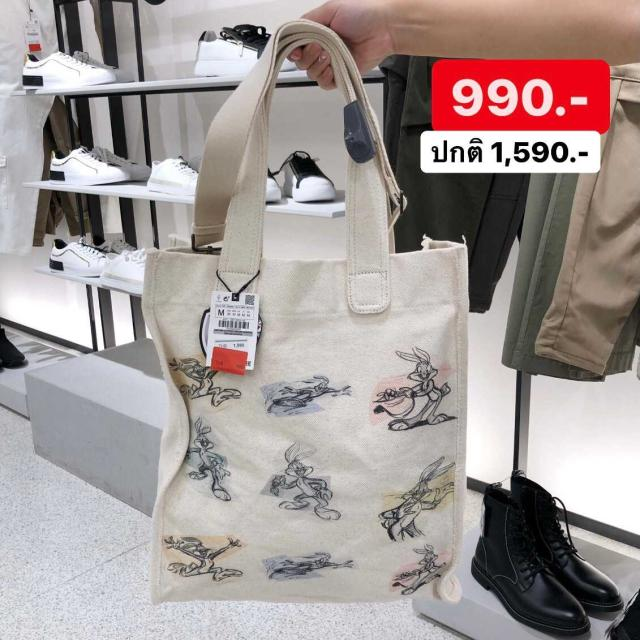Handbag: (122, 207, 476, 610)
